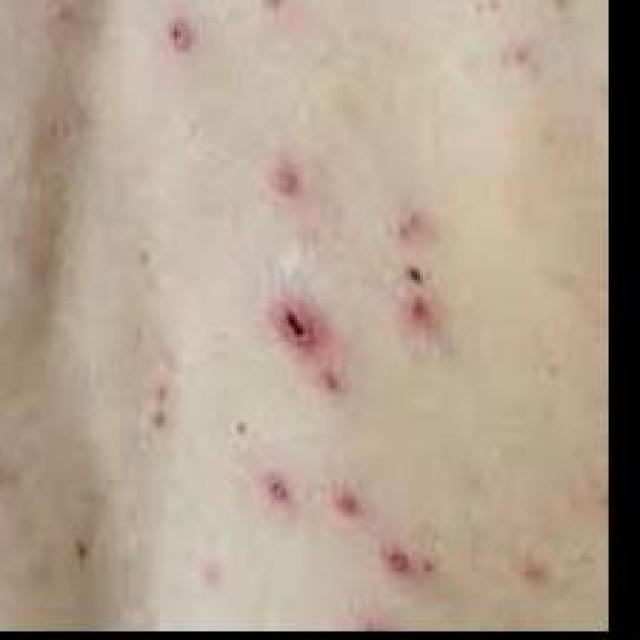others: (12, 1, 562, 622)
